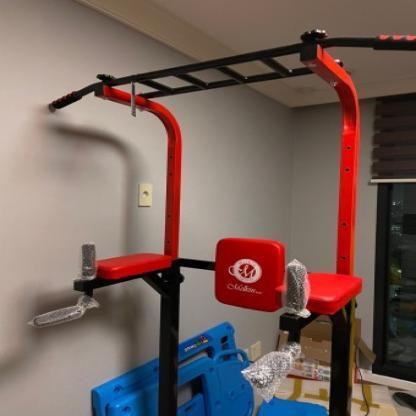chinning dipping: (35, 29, 416, 416)
